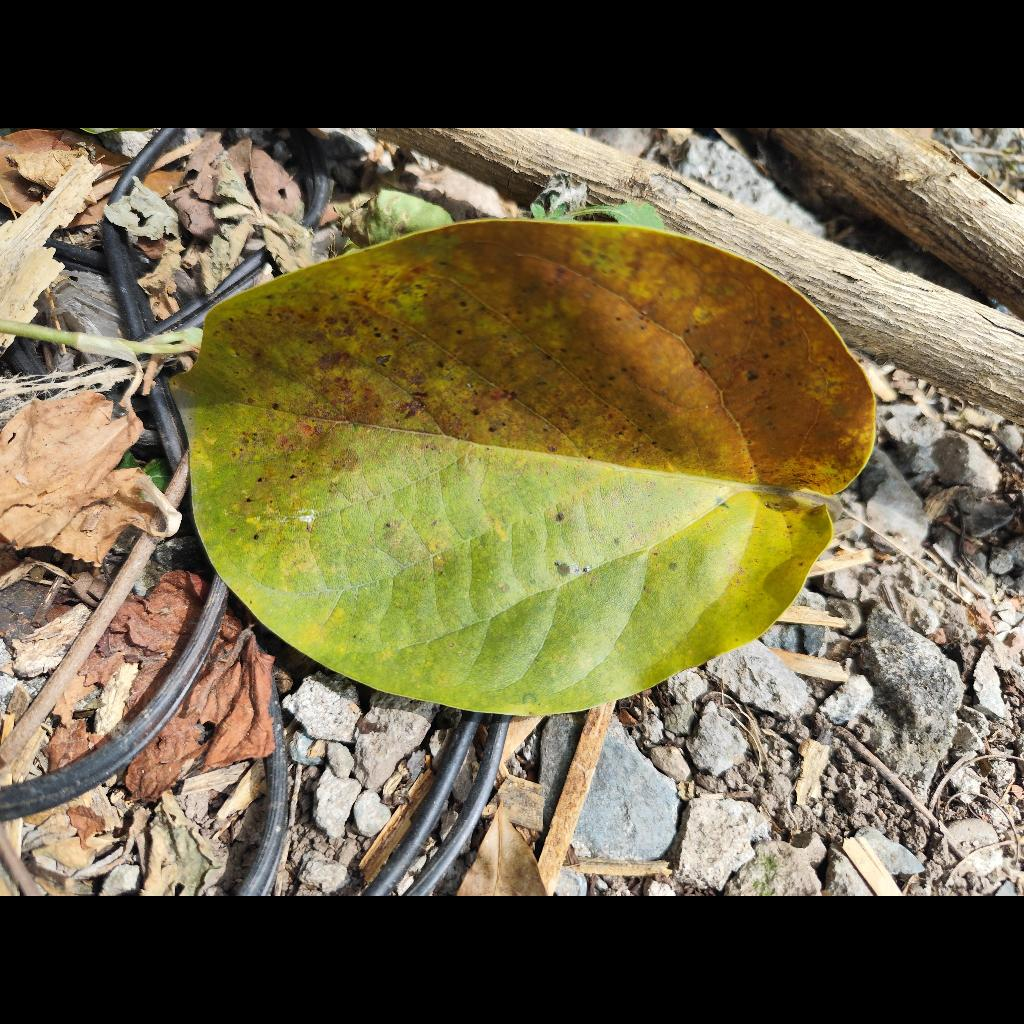nutrient_deficiency: (172, 221, 874, 714)
